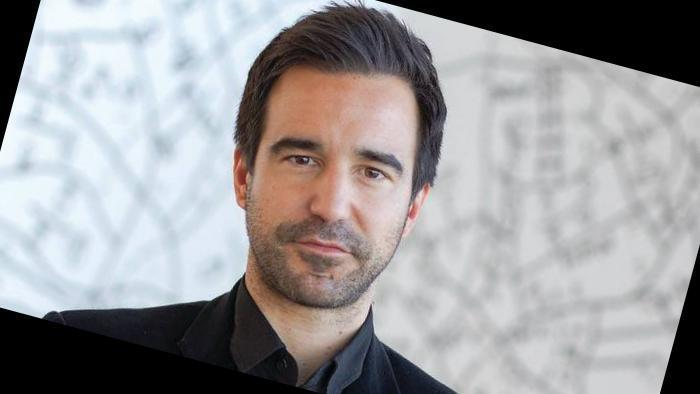Sober: (267, 62, 418, 291)
